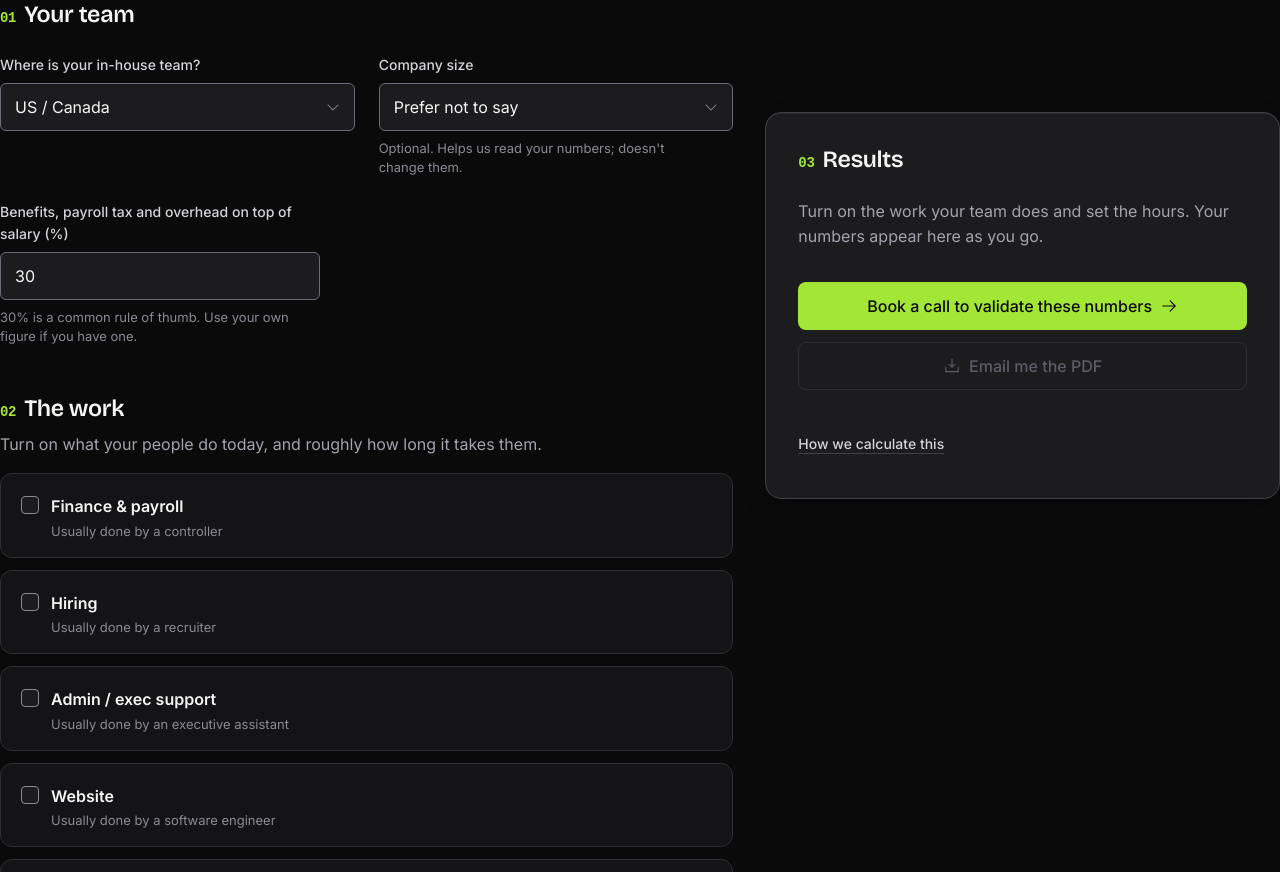
Test case: <BackOfficeCalculator /> without a rate card (live site) › shows today's cost and hours, but no Akrostech cost or savings
Step 1. Click the checkbox labelled "Finance & payroll Usually done by a controller" → coordinates (30, 505), box [21,496,39,514]
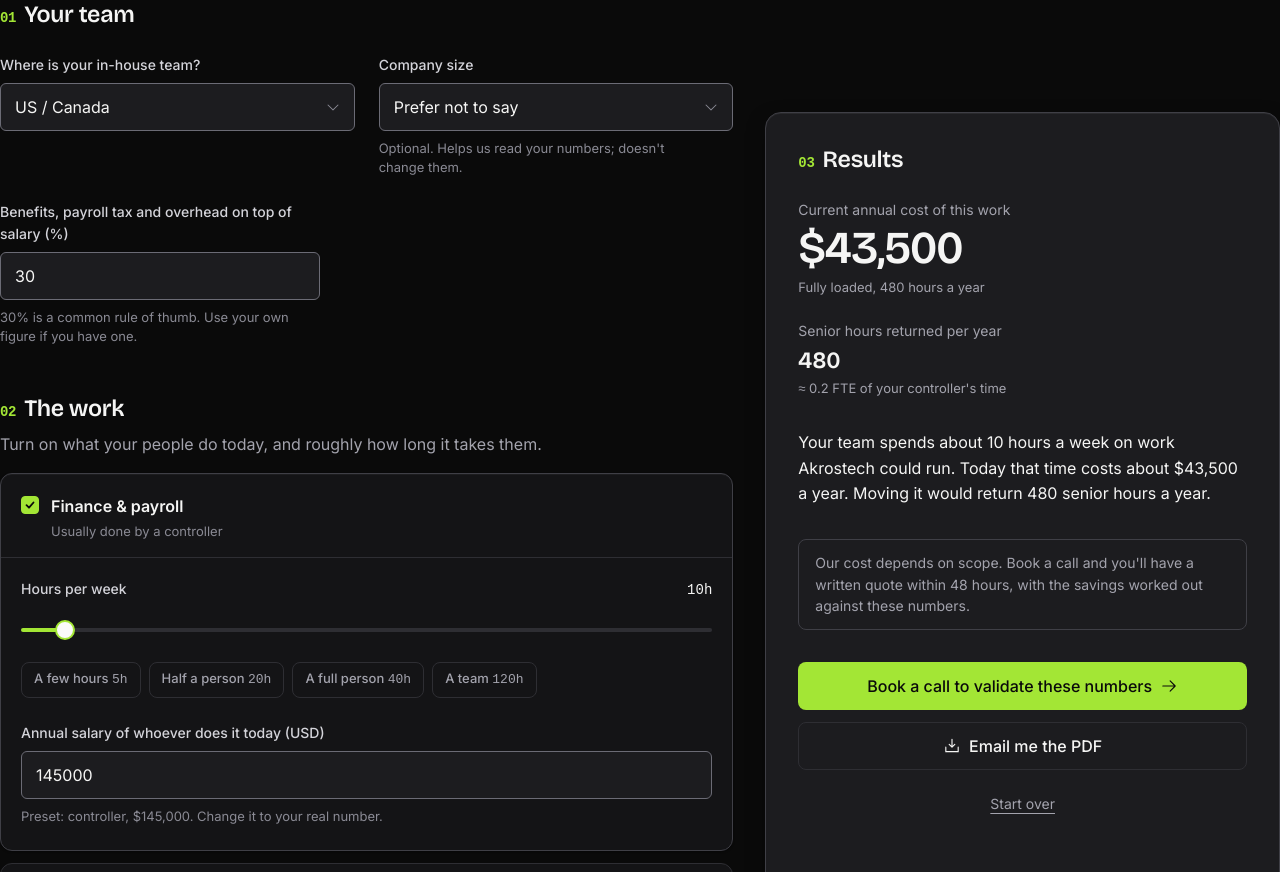
Step 2. Click the button "A full person 40h" → coordinates (358, 680), box [292,662,424,698]
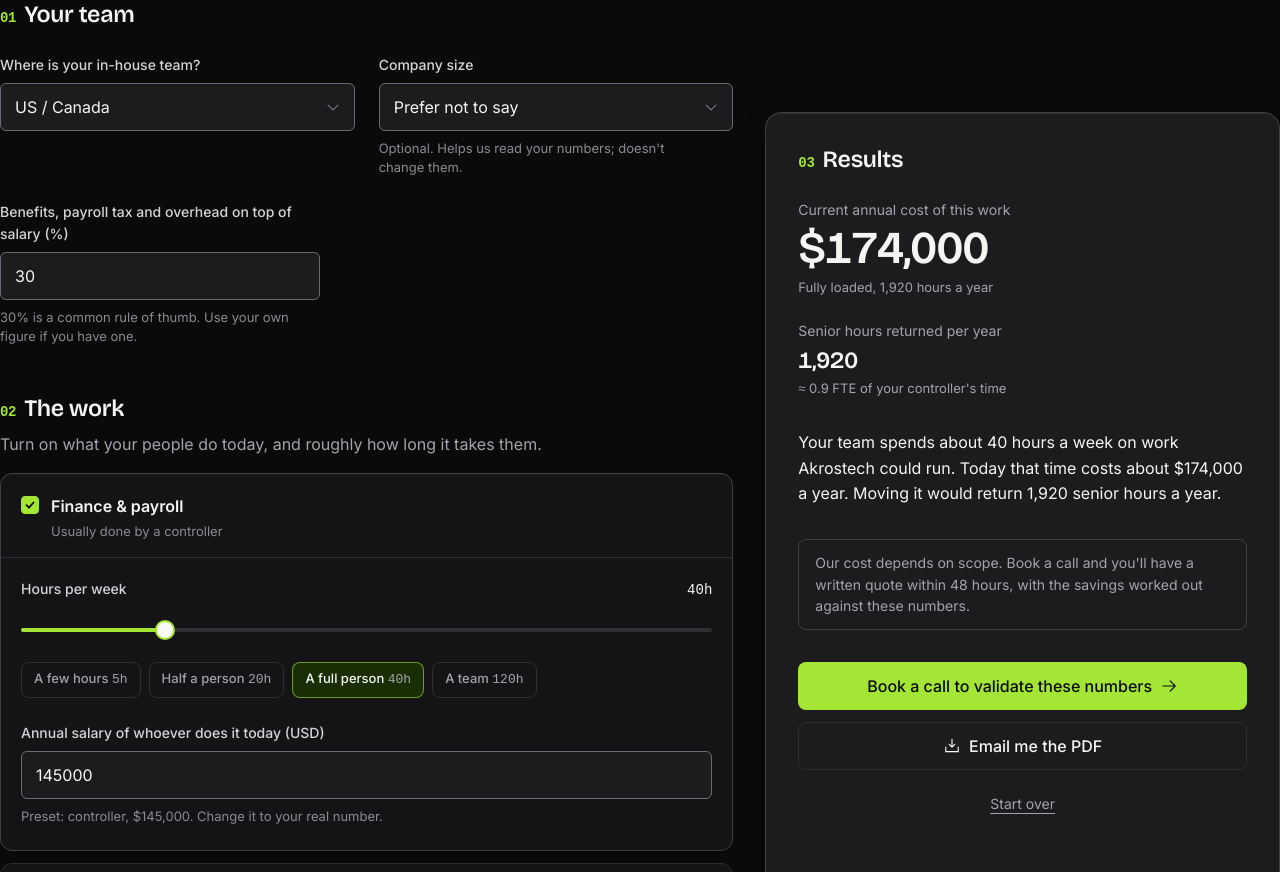
Check: the text "$174,000" is shown, box [798,221,988,275]
Check: the text "1,920" is shown, box [798,346,858,374]
Check: the text "≈ 0.9 FTE of your controller's time" is shown, box [798,379,1011,398]
